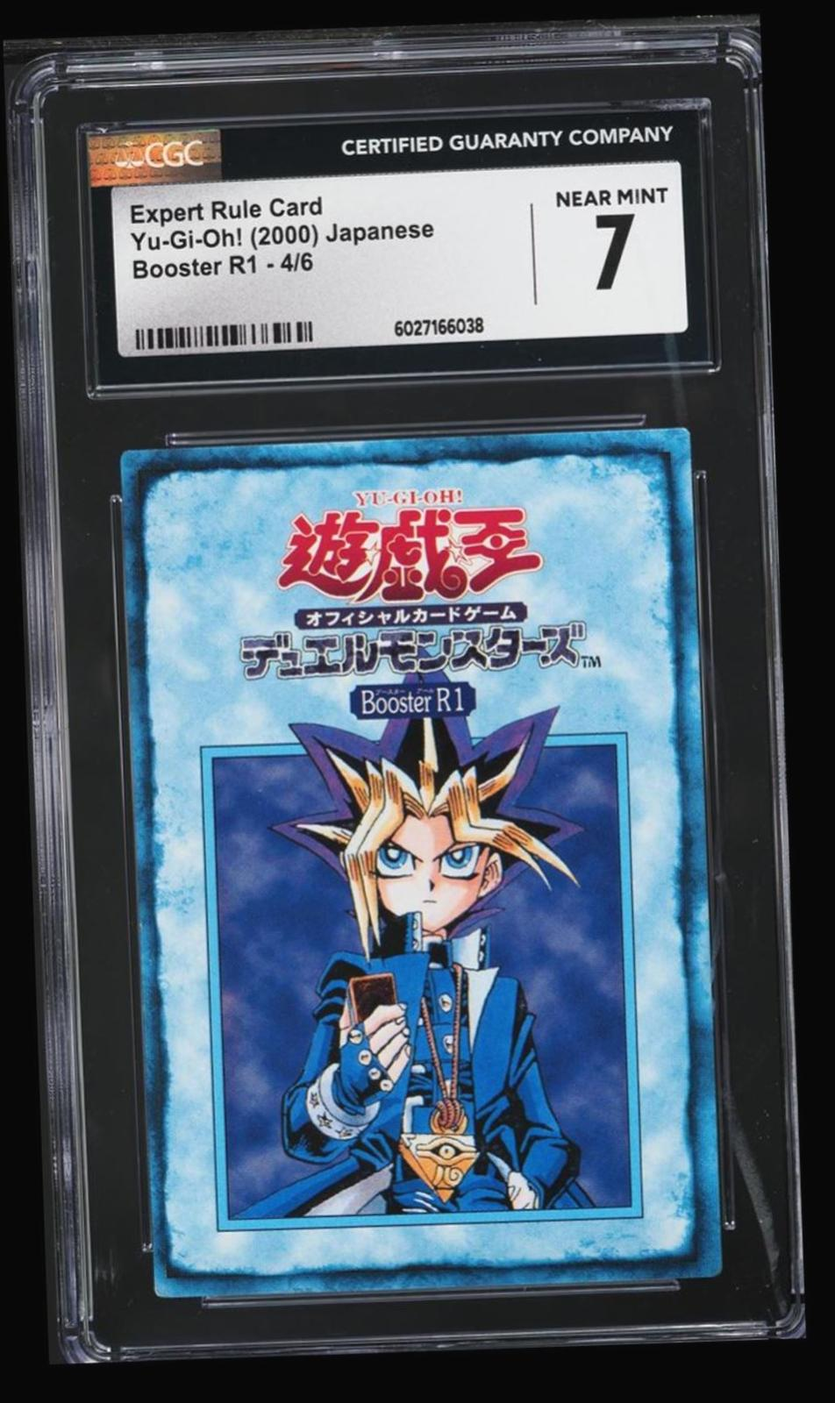card-2UtV: (119, 427, 723, 1298)
